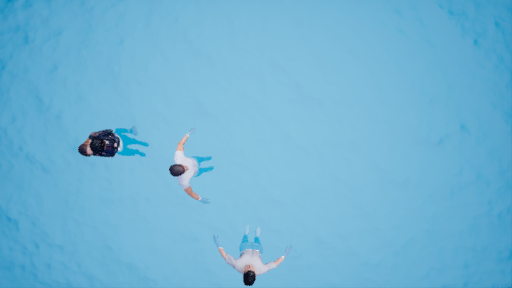person: (210, 225, 299, 286), (167, 127, 221, 206), (73, 125, 150, 164)
